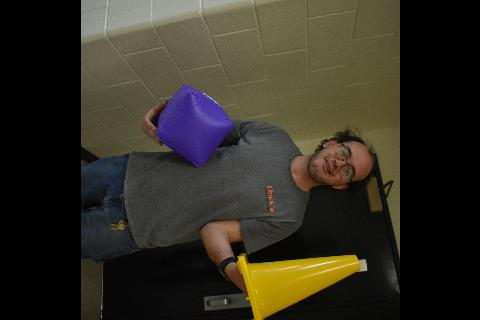cone: (236, 253, 358, 320)
cube: (156, 84, 232, 168)
